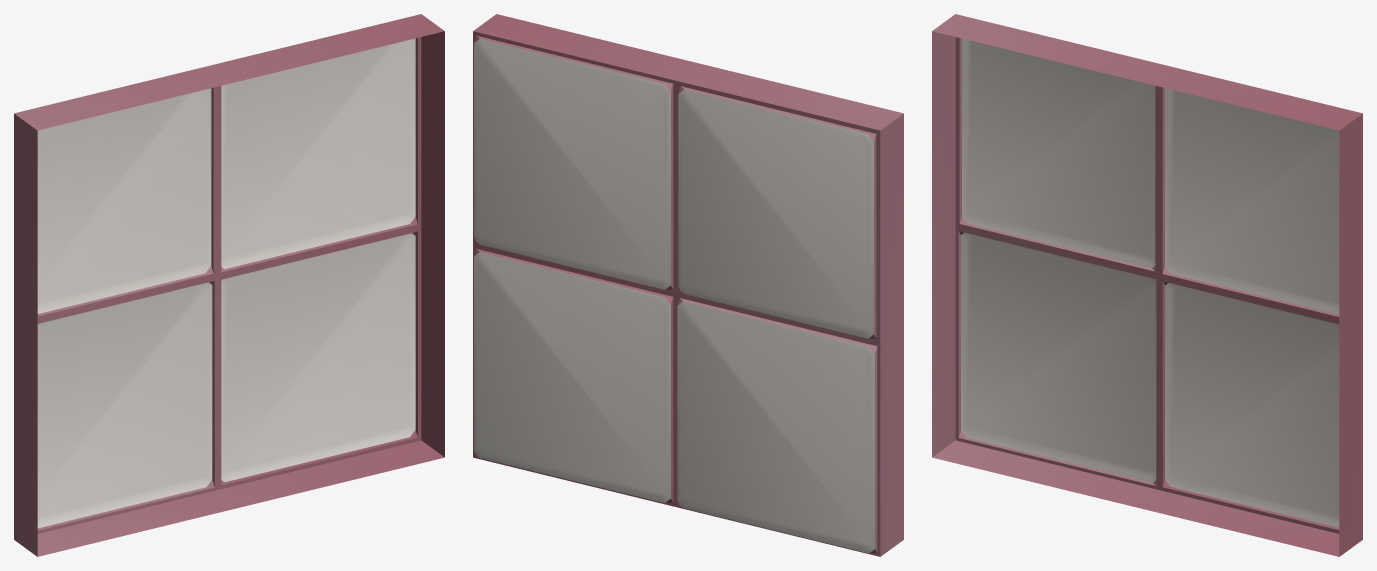
The model's file is vloer tiles.fbx.
The picture shows the model from 3 angles, left to right: view 1: azimuth 30°, elevation 25°; view 2: azimuth 150°, elevation 25°; view 3: azimuth 330°, elevation 25°; orthographic projection.
Visible parts, largest first — view 1: Cube.001; view 2: Cube.001; view 3: Cube.001.
Part boxes in pixels (x1,y1,x2,y2): Cube.001: (14, 14, 444, 556); Cube.001: (473, 14, 903, 556); Cube.001: (932, 14, 1362, 556).
Bounding box in the file's own units: 200 × 200 × 22.58.
